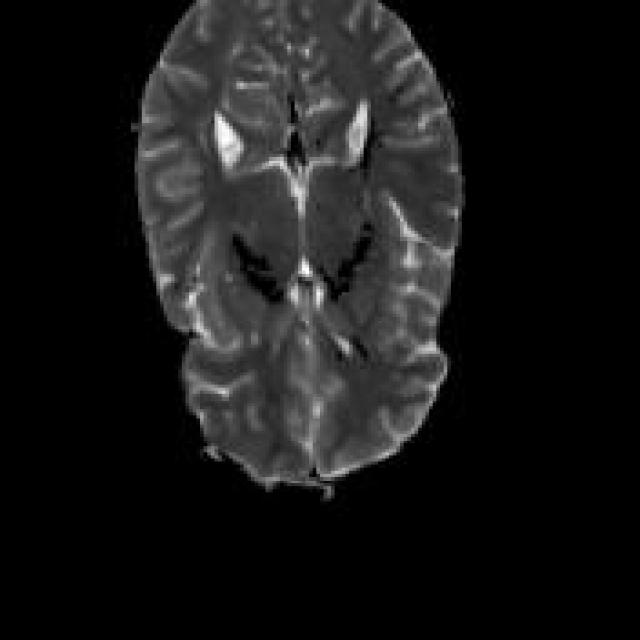parkinson: (127, 0, 465, 498)
